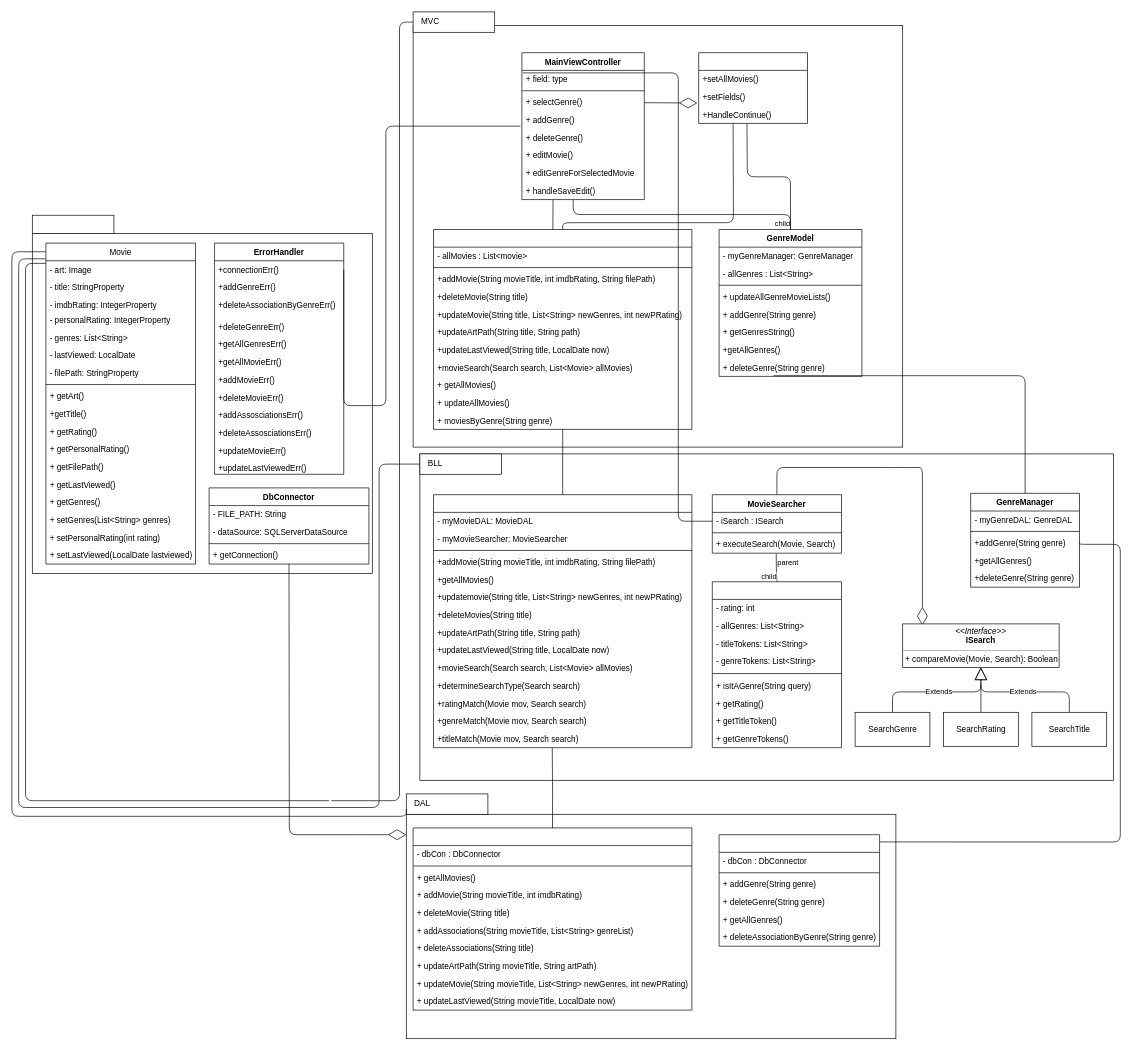
The diagram is 1133 pixels wide and 1051 high, and some of its shapes have lost their labels. The shapes that lost their labels are listed below. From the top down, each one's box as (x1, y1, x2, y2) in pixels, then its label:
(698, 52, 808, 123): NotificationViewController
(32, 215, 114, 234): BE
(433, 229, 692, 429): MovieModel
(433, 494, 692, 748): MovieManager
(712, 581, 842, 748): Search
(718, 834, 880, 946): genreDAL
(412, 827, 692, 1010): movieDAL
